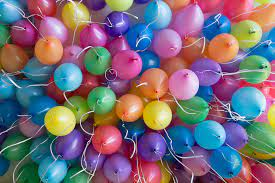Balloon: (231, 87, 266, 121), (172, 2, 204, 35), (210, 147, 243, 179), (43, 105, 75, 137), (176, 97, 211, 125), (168, 69, 200, 99), (143, 100, 172, 132), (92, 125, 122, 155), (138, 132, 167, 162), (140, 69, 168, 100), (151, 29, 180, 58), (55, 130, 84, 159), (240, 55, 269, 84), (182, 148, 212, 176), (231, 21, 262, 48), (111, 51, 142, 78), (209, 33, 237, 62), (38, 155, 67, 183), (62, 2, 92, 29), (87, 86, 117, 113), (54, 62, 82, 90), (39, 16, 68, 43), (9, 20, 38, 47), (116, 94, 143, 123), (84, 46, 111, 74), (34, 37, 63, 63), (104, 156, 133, 182), (145, 1, 171, 28), (1, 43, 26, 71), (1, 134, 29, 159), (104, 12, 130, 37), (204, 14, 229, 39)
